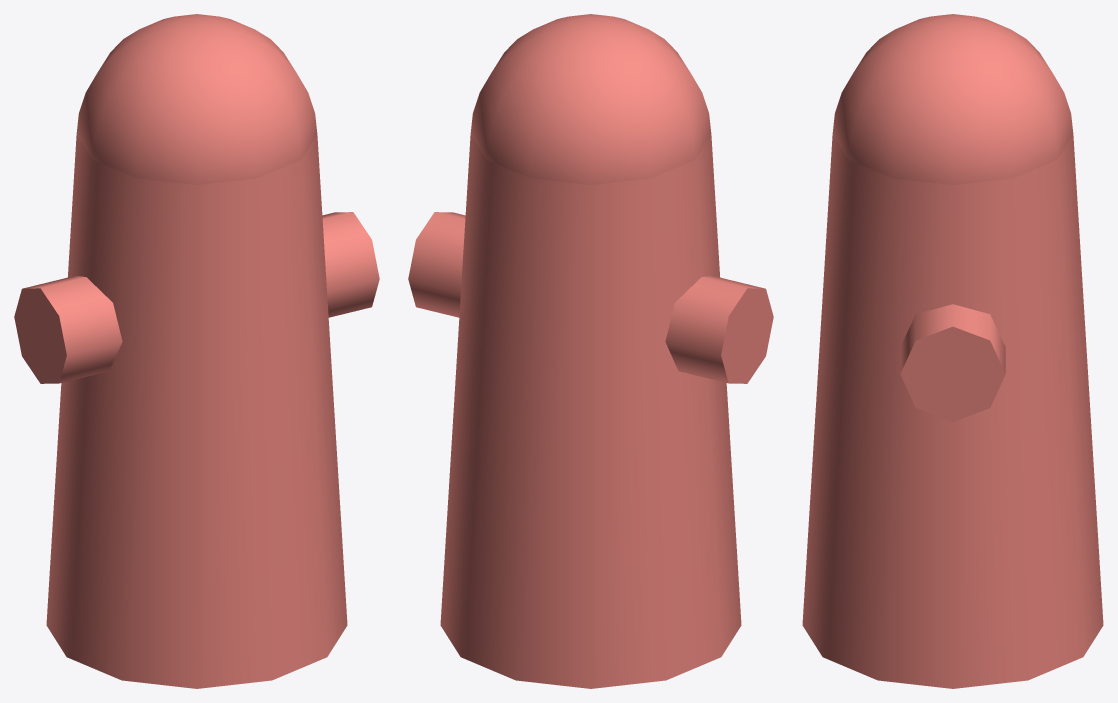
Rendered from hydrant.glb.
The picture shows the model from 3 angles, left to right: view 1: azimuth 30°, elevation 25°; view 2: azimuth 150°, elevation 25°; view 3: azimuth 270°, elevation 25°; orthographic projection.
Parts seen in each view (by area): view 1: hydrant; view 2: hydrant; view 3: hydrant.
Boxes of the visible parts, x1=… form: hydrant: x1=14, y1=14, x2=379, y2=688; hydrant: x1=408, y1=14, x2=773, y2=688; hydrant: x1=802, y1=14, x2=1103, y2=688.
Bounding box in the file's own units: 0.24 × 0.44 × 0.2.
